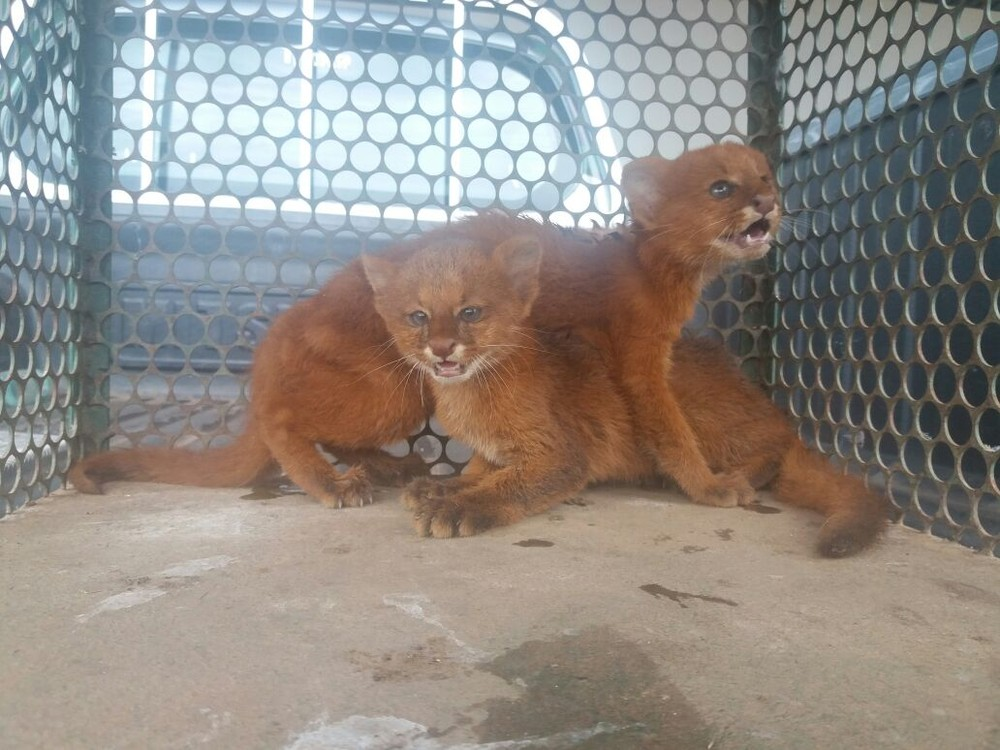OncaParda: (67, 137, 772, 515), (355, 230, 900, 568)
